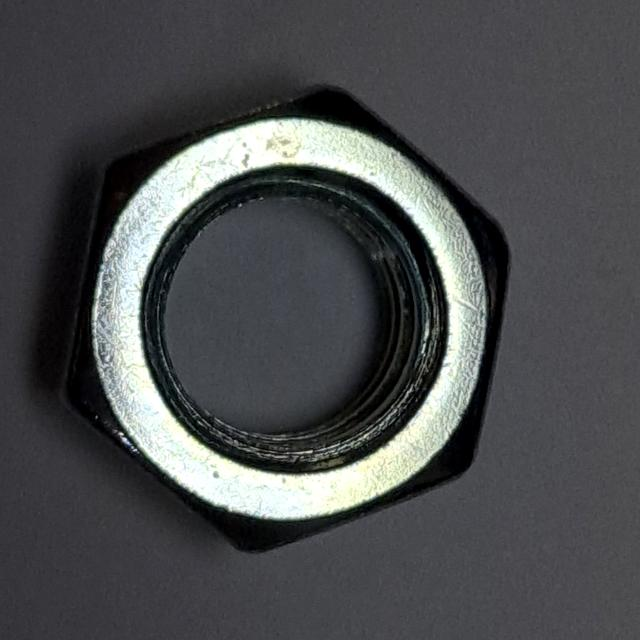Excellent: (38, 70, 524, 570)
